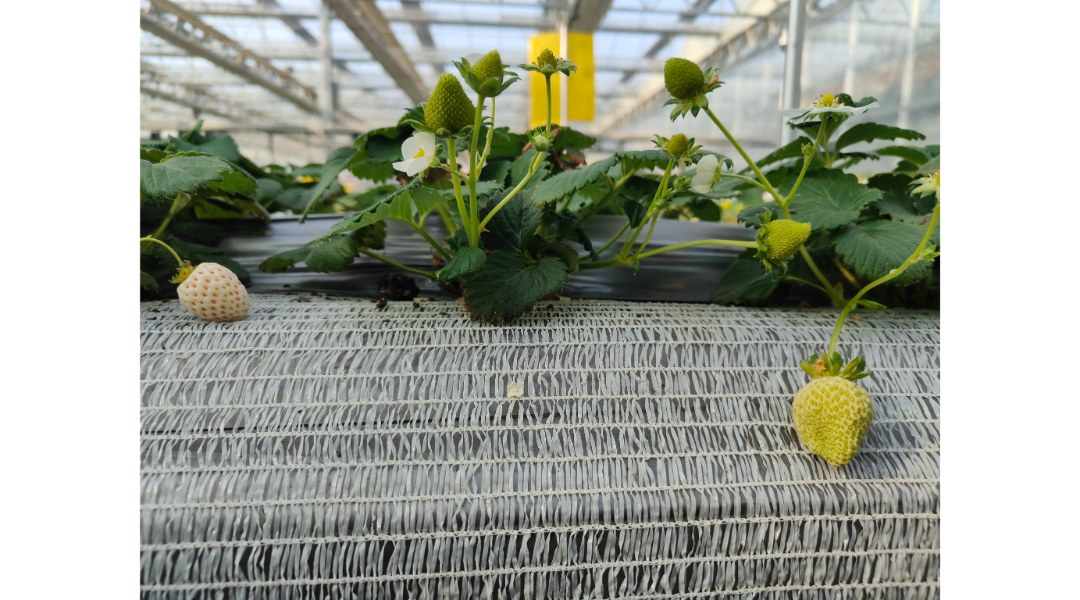berry: (780, 367, 876, 475), (179, 256, 255, 319), (446, 47, 522, 102), (426, 67, 475, 149), (657, 57, 722, 113), (747, 218, 815, 261), (520, 38, 575, 86)
flower: (391, 131, 440, 179)
strain: (705, 99, 781, 198), (859, 220, 931, 304), (480, 154, 540, 233), (643, 232, 736, 260), (829, 300, 854, 355)
